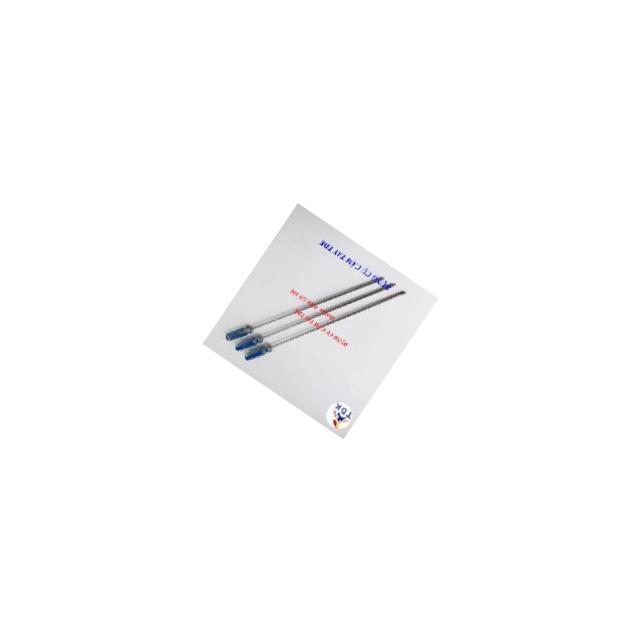screwdriver: (241, 234, 408, 414), (232, 226, 400, 404), (222, 219, 386, 394)
